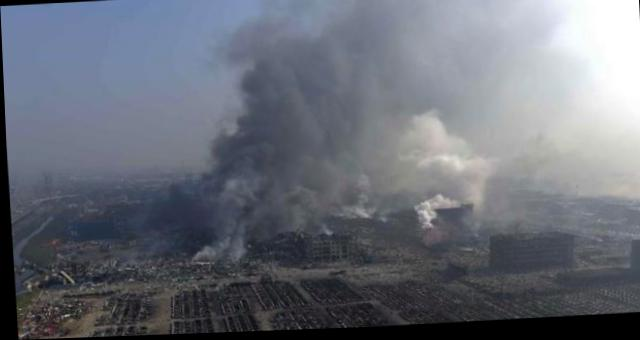smoke: (325, 10, 413, 211), (252, 38, 336, 171), (410, 106, 489, 218), (249, 169, 333, 232), (191, 169, 246, 249), (203, 111, 262, 169)
